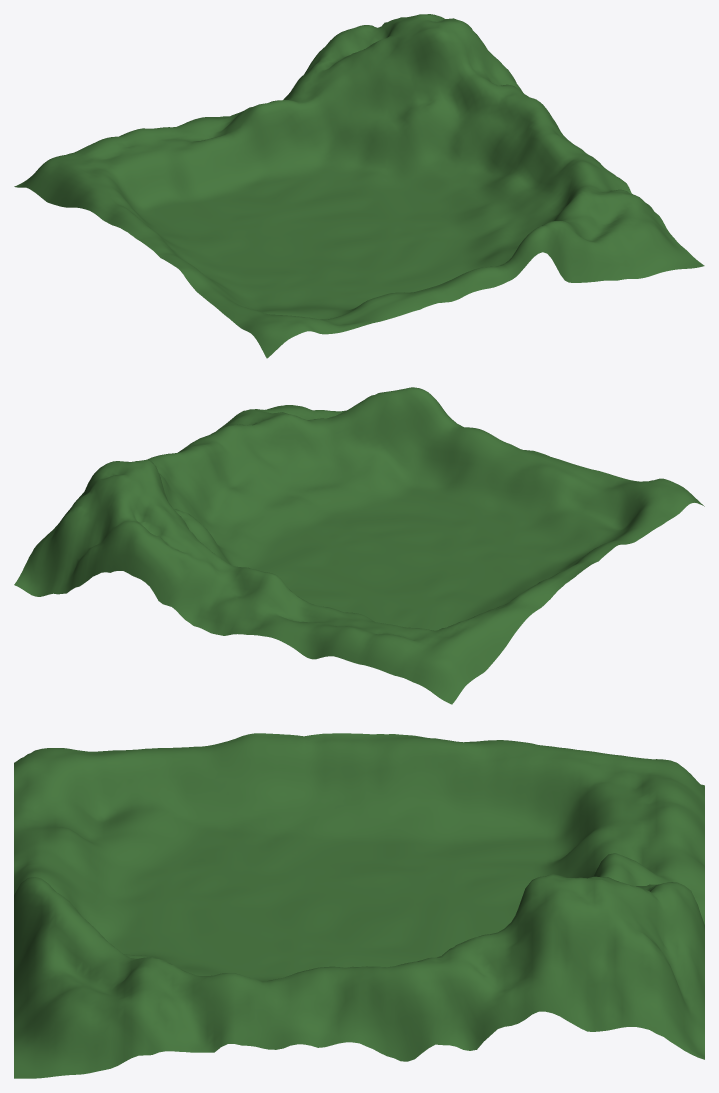
File: MAPA.FBX
The picture shows the model from 3 angles, top to bottom: view 1: azimuth 30°, elevation 25°; view 2: azimuth 150°, elevation 25°; view 3: azimuth 270°, elevation 25°; orthographic projection. The views are drawn at different scales.
Parts seen in each view (by area): view 1: Plane001; view 2: Plane001; view 3: Plane001.
Part boxes in pixels (<box>): Plane001: <box>14,14,704,358</box>; Plane001: <box>14,387,704,704</box>; Plane001: <box>14,733,704,1078</box>.
Bounding box in the file's own units: 3937 × 963 × 3937.
